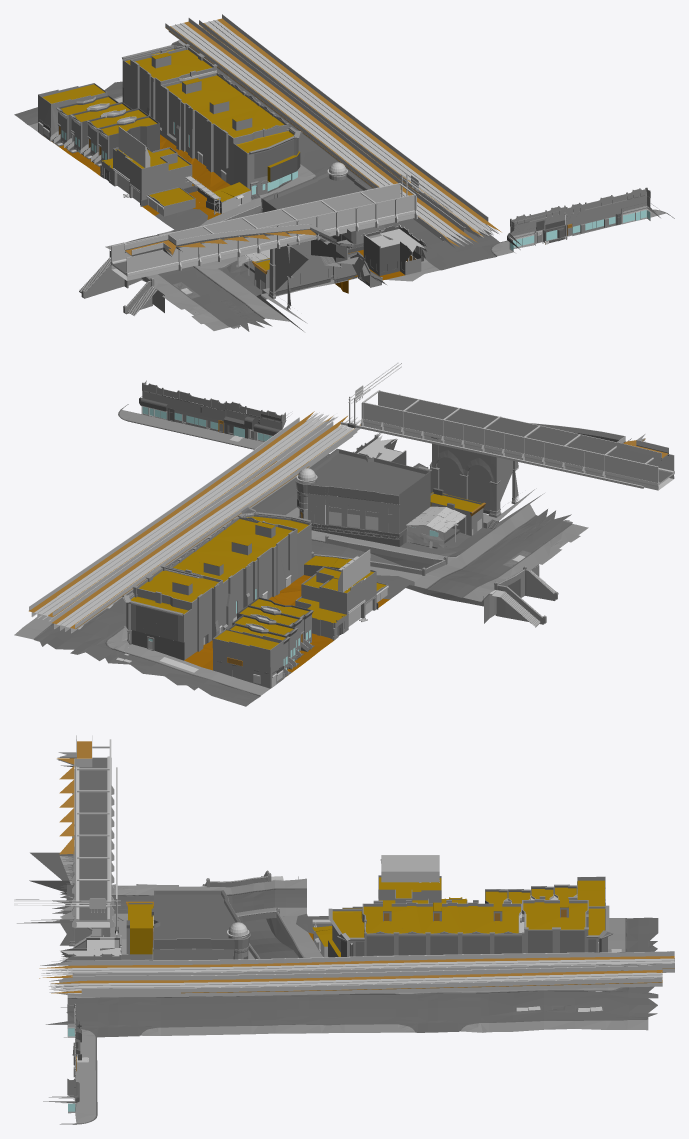
File: brook_s_15.FBX
The picture shows the model from 3 angles, top to bottom: view 1: azimuth 30°, elevation 25°; view 2: azimuth 150°, elevation 25°; view 3: azimuth 270°, elevation 25°; orthographic projection. The views are drawn at different scales.
Parts seen in each view (by area): view 1: unnamed, null; view 2: unnamed, null; view 3: unnamed, null.
Boxes of the visible parts, bbox=[...] form: unnamed: bbox=[79, 14, 674, 331]; null: bbox=[14, 47, 277, 212]; unnamed: bbox=[14, 362, 674, 664]; null: bbox=[119, 519, 386, 706]; unnamed: bbox=[14, 735, 674, 1124]; null: bbox=[345, 855, 658, 952].
Size of the model in its own units: 192 by 40.62 by 186.
